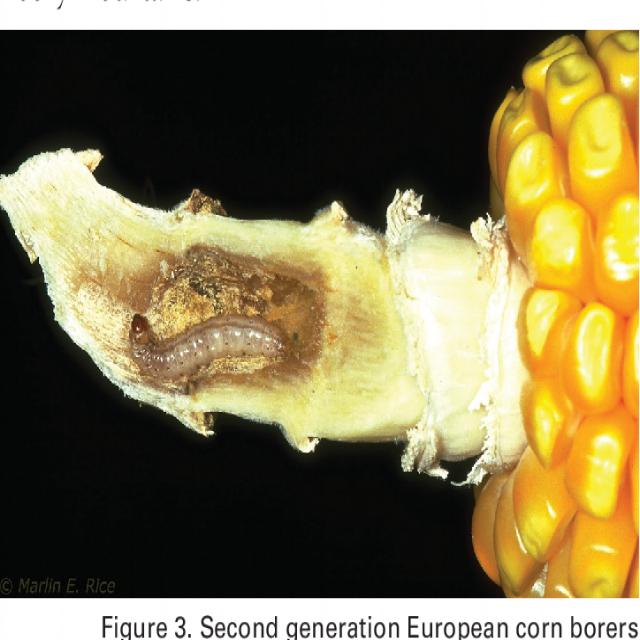cornborer-Larva-: (119, 305, 298, 383)
